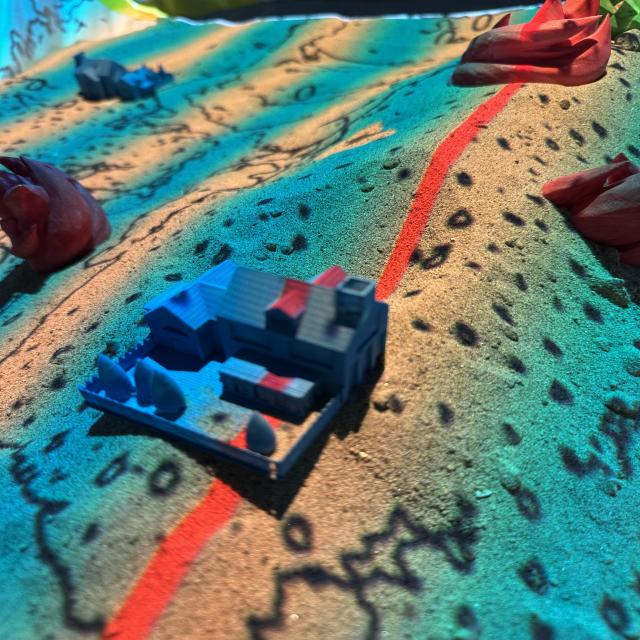fire: (450, 0, 613, 90), (0, 154, 112, 260), (544, 152, 640, 258)
house: (76, 258, 390, 480), (69, 49, 174, 102)
